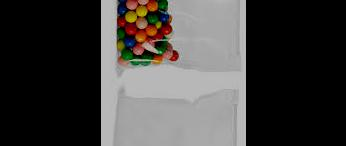Plastic: (106, 0, 245, 82), (101, 86, 243, 145)
